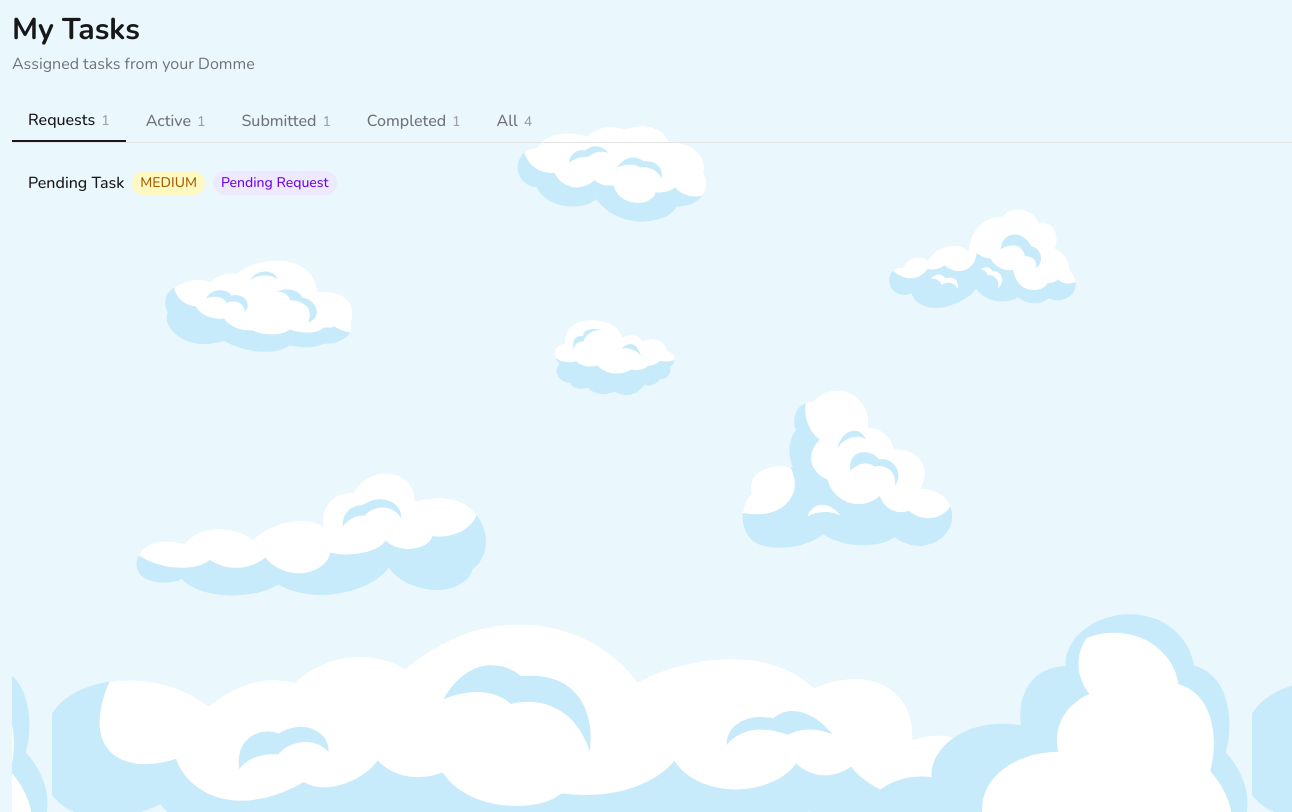
Scenario: MyTasksPageClient › filters tasks by tab
The width and height of the screenshot is (1292, 812).
Switch to Active tab
Click the button "Active1".
click(176, 121)  # box x1=130 y1=100 x2=221 y2=142
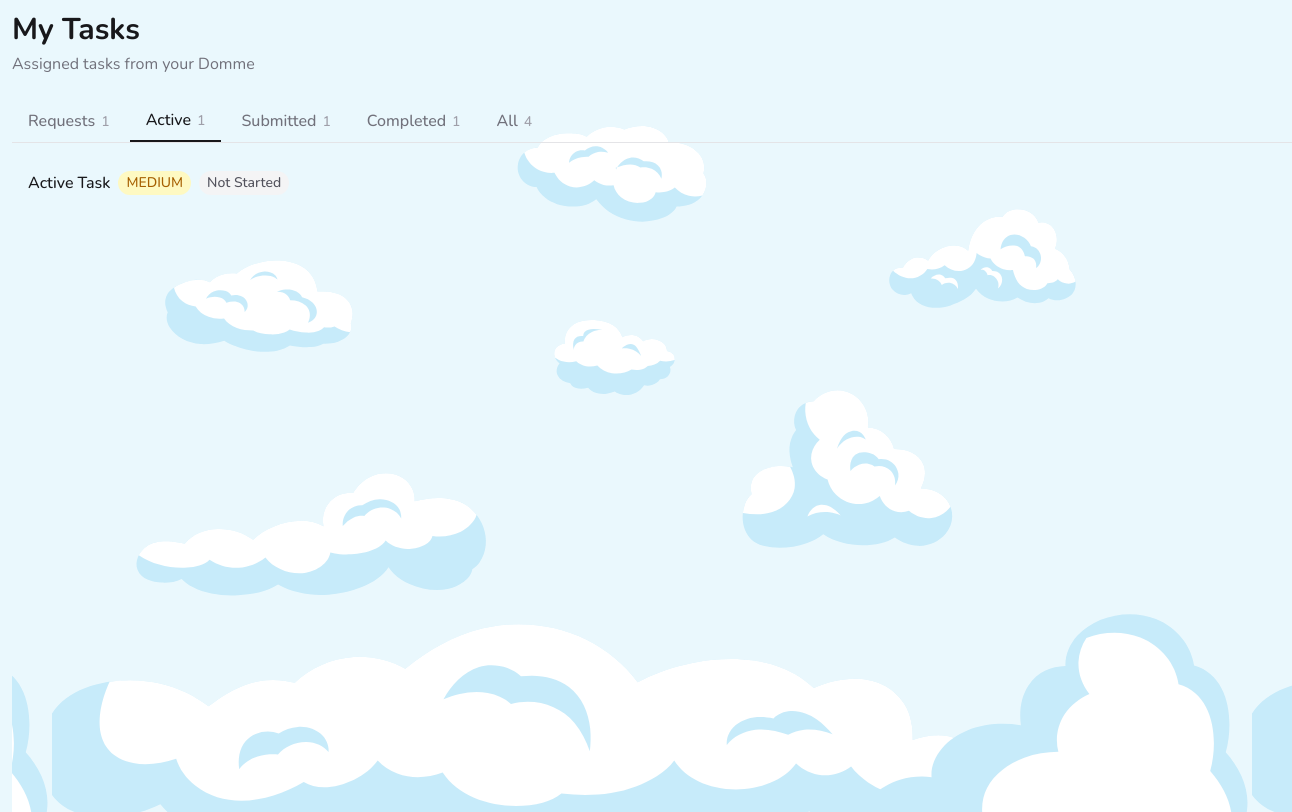
Check: the text "Active Task" is shown, box x1=28 y1=171 x2=110 y2=195
Check: the link "Pending Task" is gone
Switch to Submitted tab
Click the button "Submitted1".
click(286, 121)  # box x1=226 y1=100 x2=347 y2=142
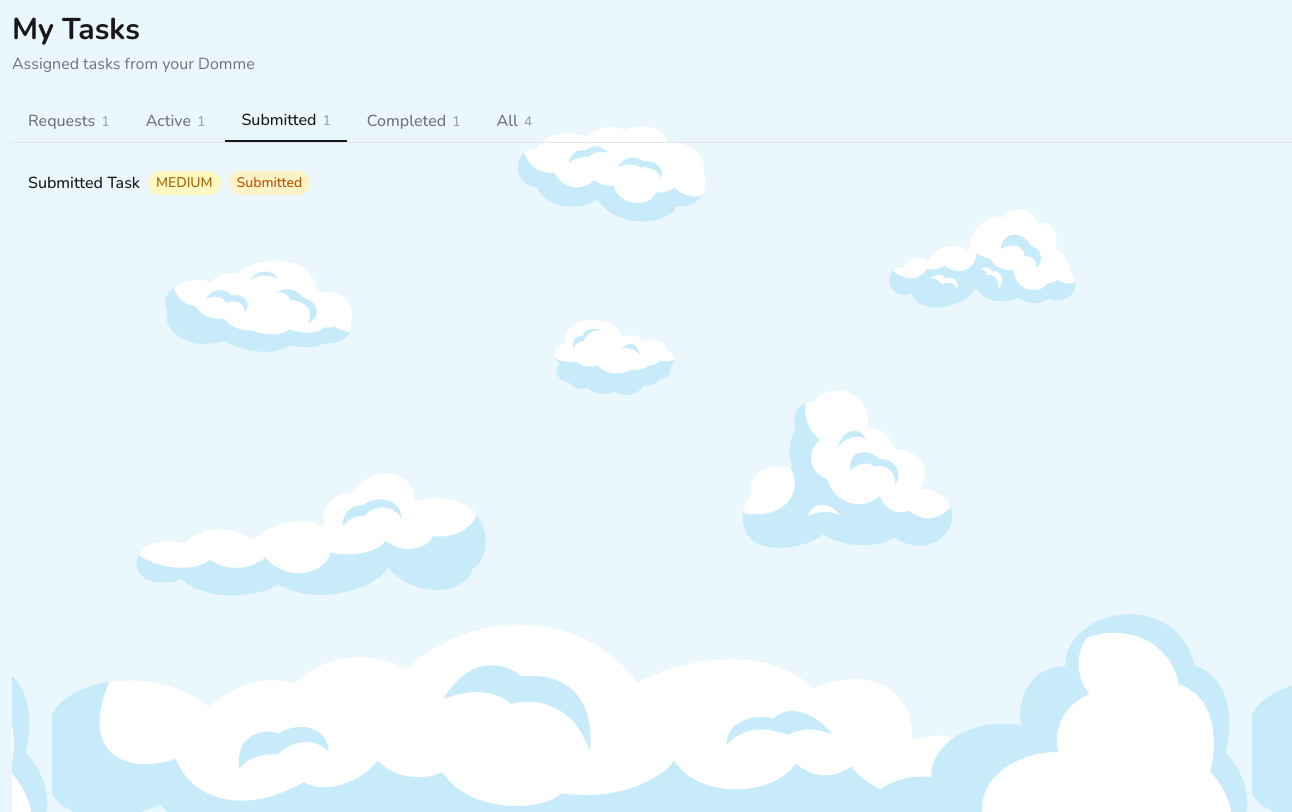
Check: the text "Submitted Task" is shown, box x1=28 y1=171 x2=140 y2=195
Check: the link "Active Task" is gone
Switch to Completed tab
Click the button "Completed1".
click(414, 121)  # box x1=351 y1=100 x2=476 y2=142
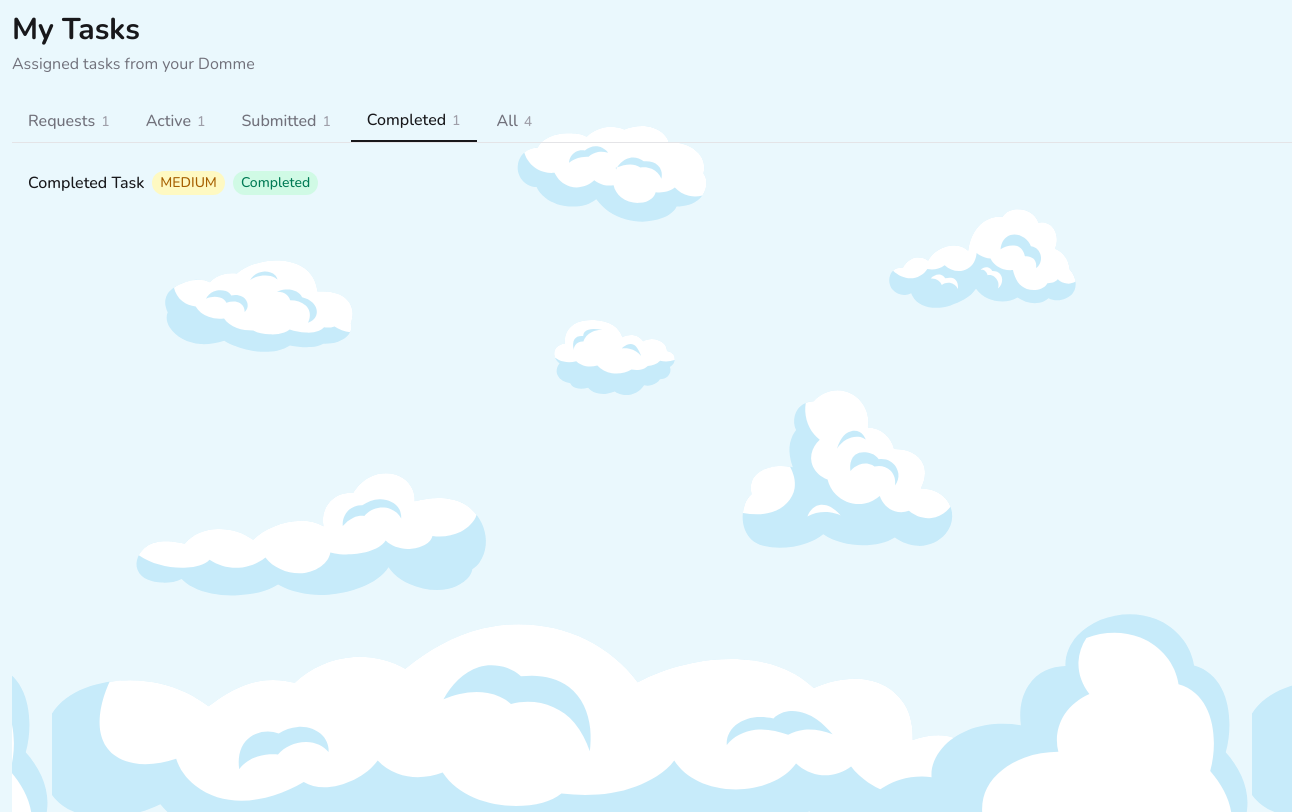
Check: the text "Completed Task" is shown, box x1=28 y1=171 x2=144 y2=195
Switch to All tab
Click the button "All4".
click(514, 121)  # box x1=480 y1=100 x2=548 y2=142
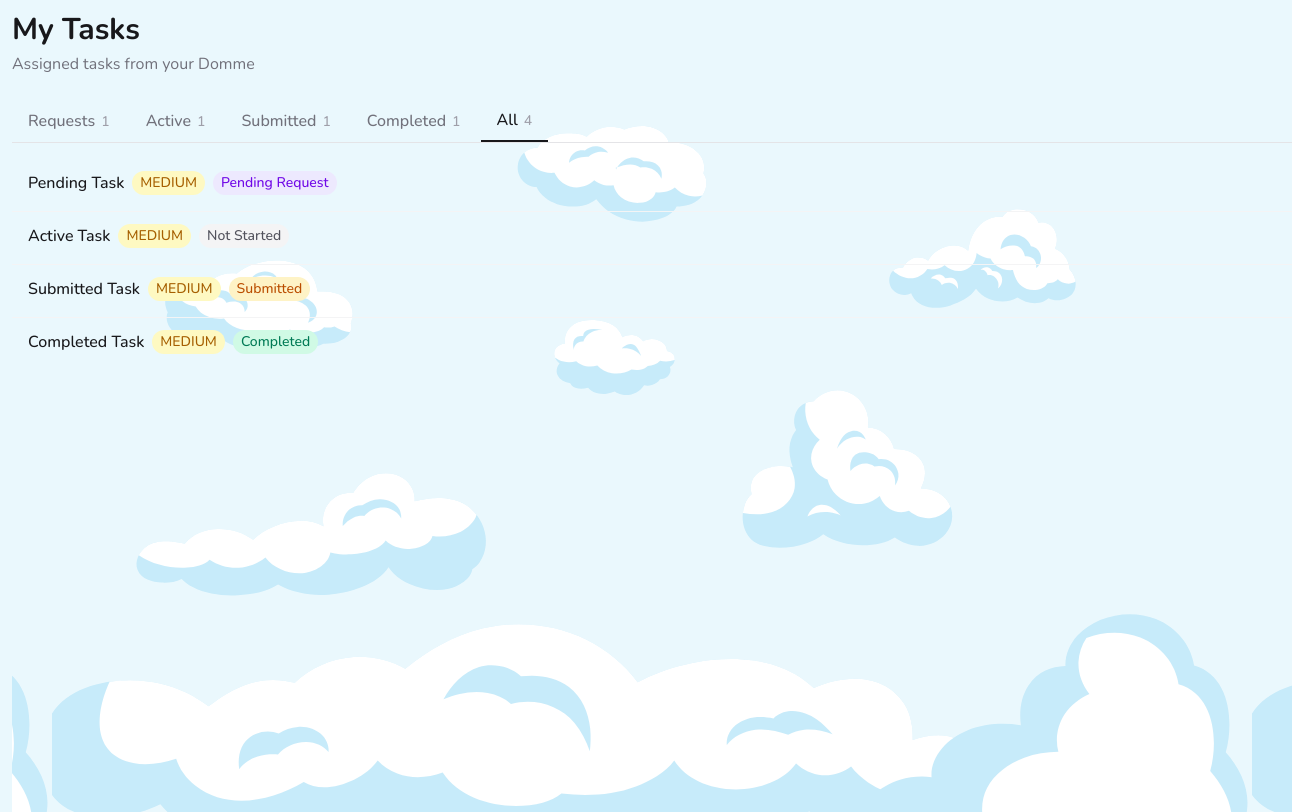
Check: the text "Pending Task" is shown, box x1=28 y1=171 x2=124 y2=195
Check: the text "Active Task" is shown, box x1=28 y1=224 x2=110 y2=248
Check: the text "Submitted Task" is shown, box x1=28 y1=277 x2=140 y2=301
